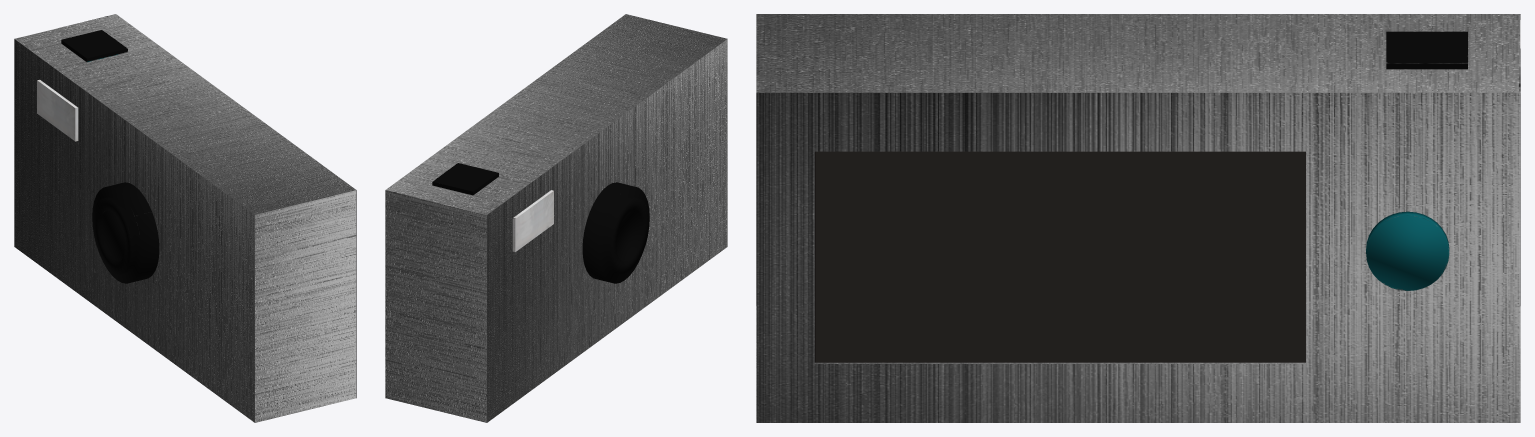
File: camera.glb
3 renders of one model, left to right at view 1: azimuth 30°, elevation 25°; view 2: azimuth 150°, elevation 25°; view 3: azimuth 270°, elevation 25°, orthographic. The views are drawn at different scales.
Visible parts, largest first — view 1: Cube; view 2: Cube; view 3: Cube.
Boxes of the visible parts, box(x1,y1,x2,y2) form: Cube: box(14, 14, 356, 422); Cube: box(385, 14, 727, 422); Cube: box(756, 14, 1520, 422).
Size of the model in its own units: 1.31 by 2.04 by 4.19.
Materials: 1 (1 with a texture image).
